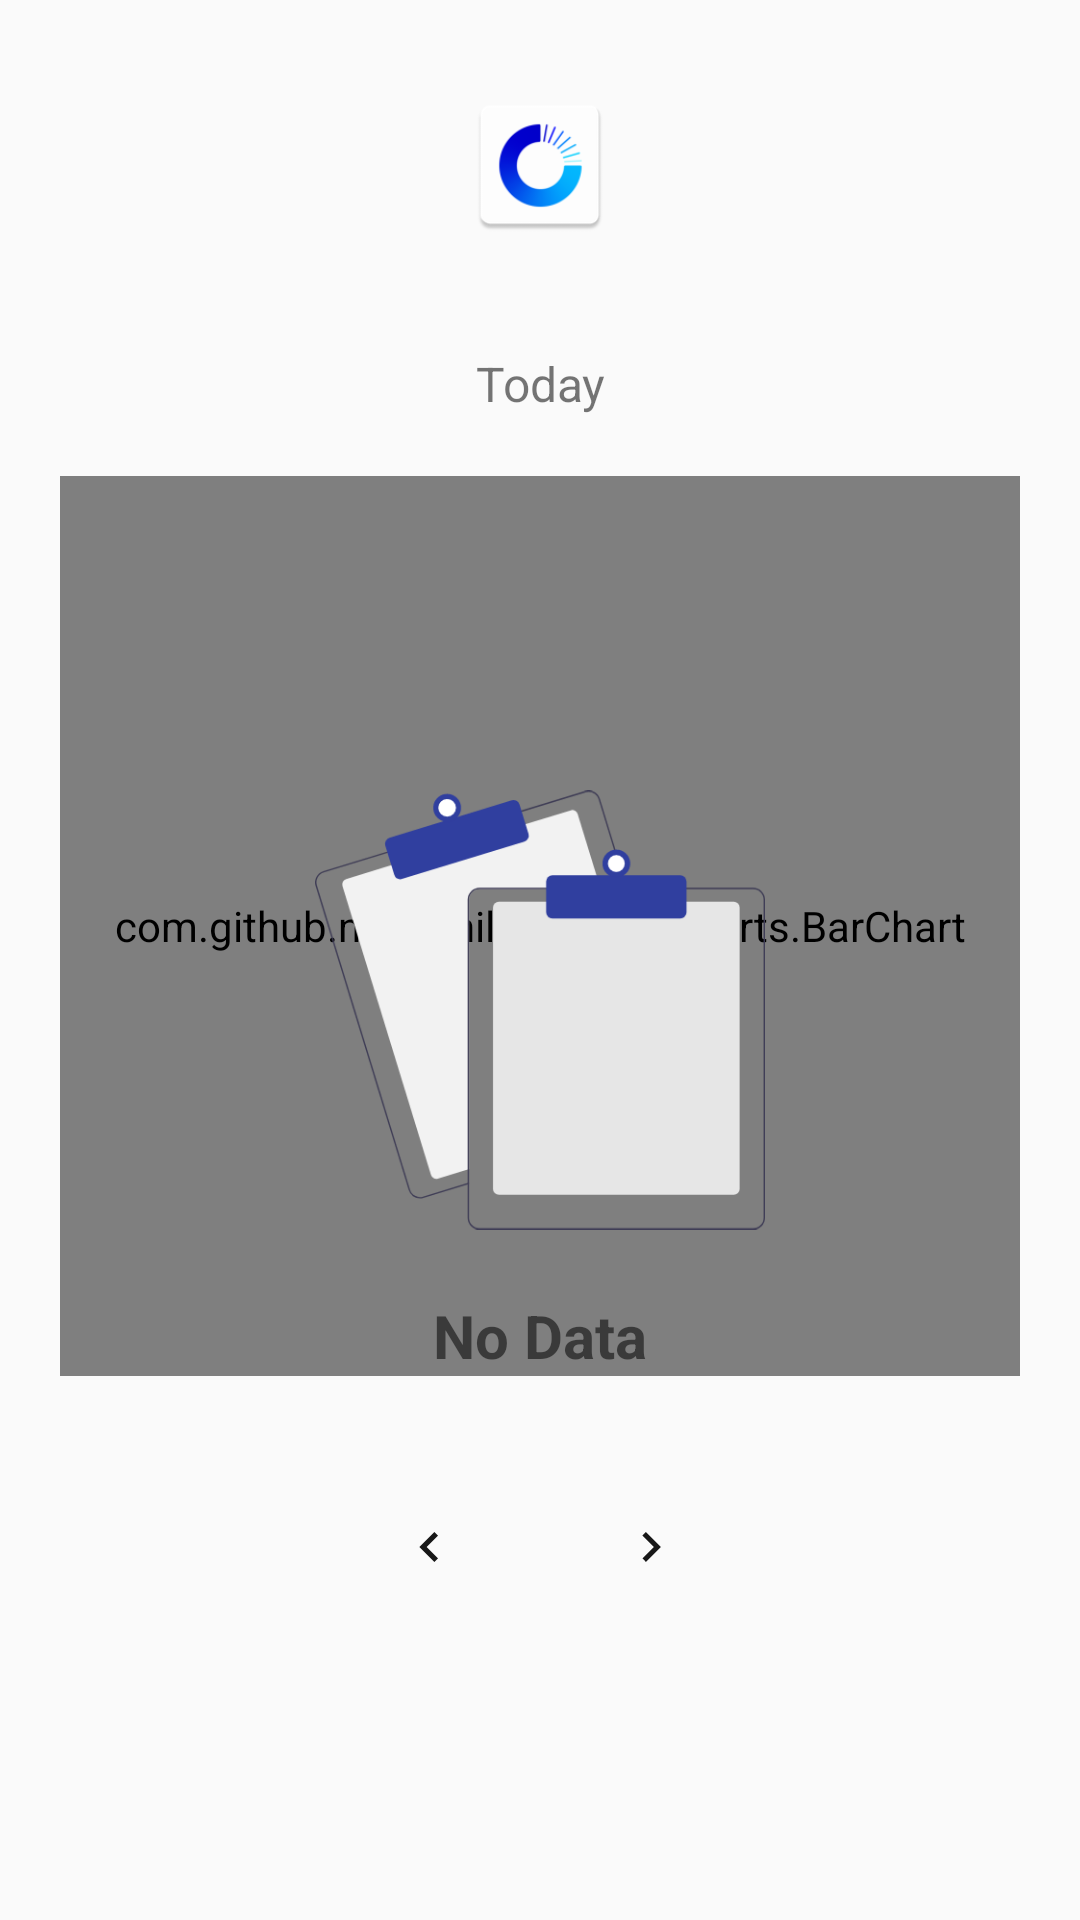

Screen size 1080w x 1920h. Icon name, then its center in pixels as (x,y):
next: (651,1547)
previous: (428,1547)
